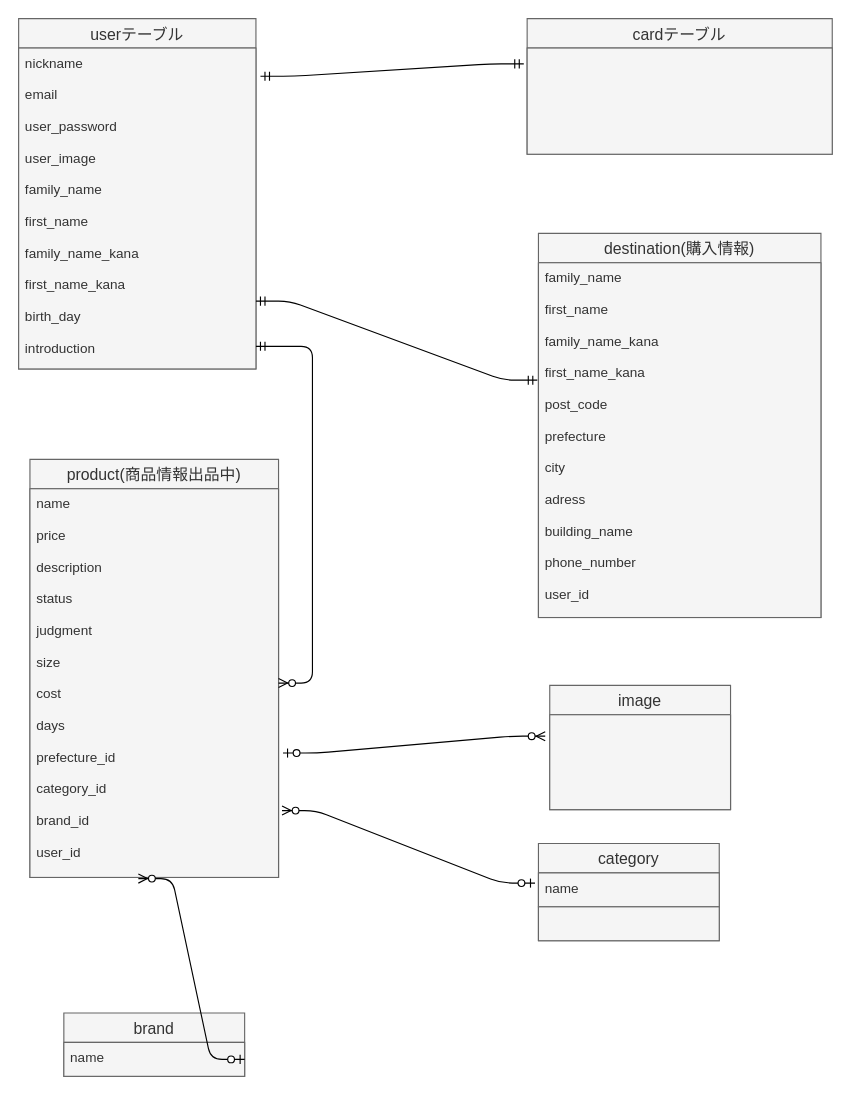
This 851x1095 diagram has some shape labels left out. Here are the shapes that lost their labels. From the top down, the centre of each, then its label:
point 679,100: user_id customer_id card_id
point 640,762: image product_id purchase_id
point 628,923: ancestry
